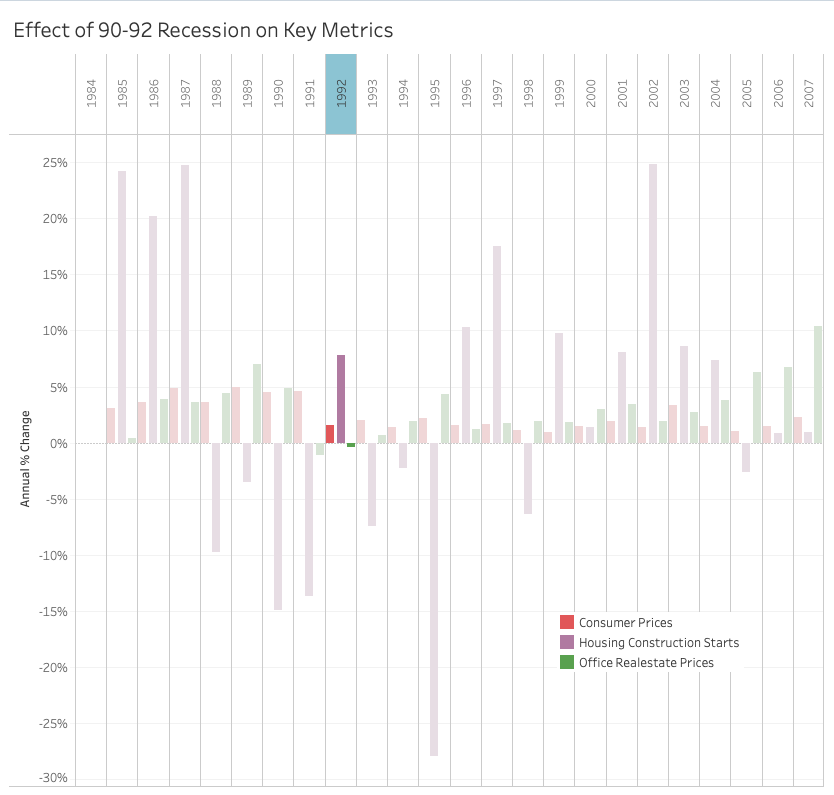

The page's visual inventory and layout, read from the dashboard file:
{"tool":"tableau","page":{"name":"Task 8.2","canvas":[1000,800],"ordinal":6},"visuals":[{"type":"worksheet","title":"Task 8 |1987, 1992, 2000)","mark":"Bar","cols":["Year"],"box":[8,8,824,784]},{"type":"legend","title":"Task 8 |1987, 1992, 2000)","param":"[federated.1okl8ay0m9et4017je1rc01q96pp].[:Measure Names]","box":[560,613,187,60]}]}

Visuals, with their boxes on the page's 1000x800 design canvas (x1, y1, x2, y2). These are canvas units, not pixel positions in the 834x795 screenshot, which may show the page scaled, cropped or inside an application window:
"Task 8 |1987, 1992, 2000)" worksheet (Bar marks): detection(8, 8, 832, 792)
"Task 8 |1987, 1992, 2000)" legend: detection(560, 613, 747, 673)
